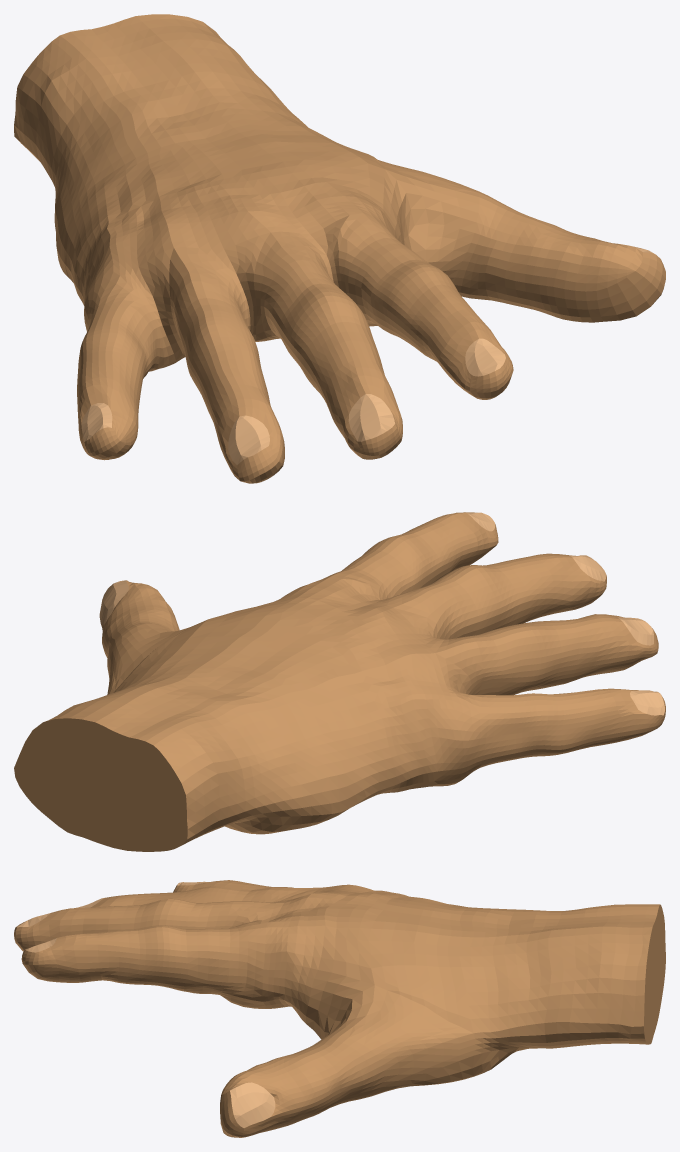
File: hand.obj
3 renders of one model, top to bottom at view 1: azimuth 30°, elevation 25°; view 2: azimuth 150°, elevation 25°; view 3: azimuth 270°, elevation 25°, orthographic. The views are drawn at different scales.
Parts seen in each view (by area): view 1: Hand.lwo; view 2: Hand.lwo; view 3: Hand.lwo.
Part boxes in pixels (<box>): Hand.lwo: <box>14,14,665,483</box>; Hand.lwo: <box>14,512,665,851</box>; Hand.lwo: <box>14,880,665,1137</box>.
Bounding box in the file's own units: 0.2305 × 0.0623 × 0.275.
